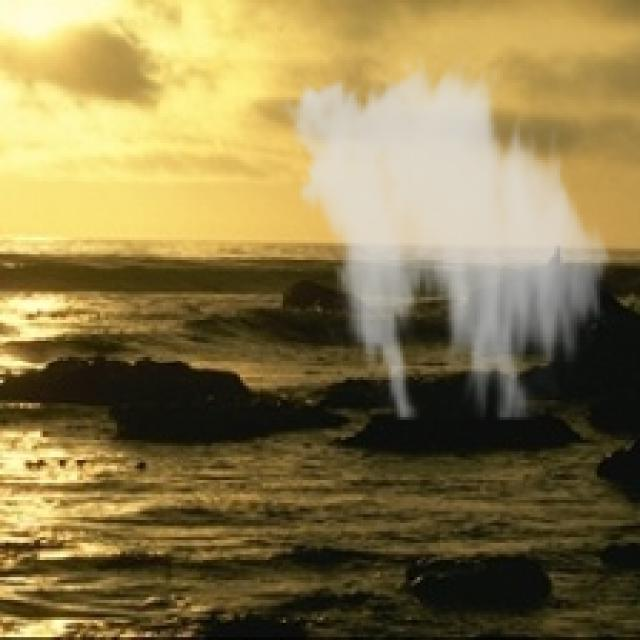Smoke: (274, 51, 620, 420)
